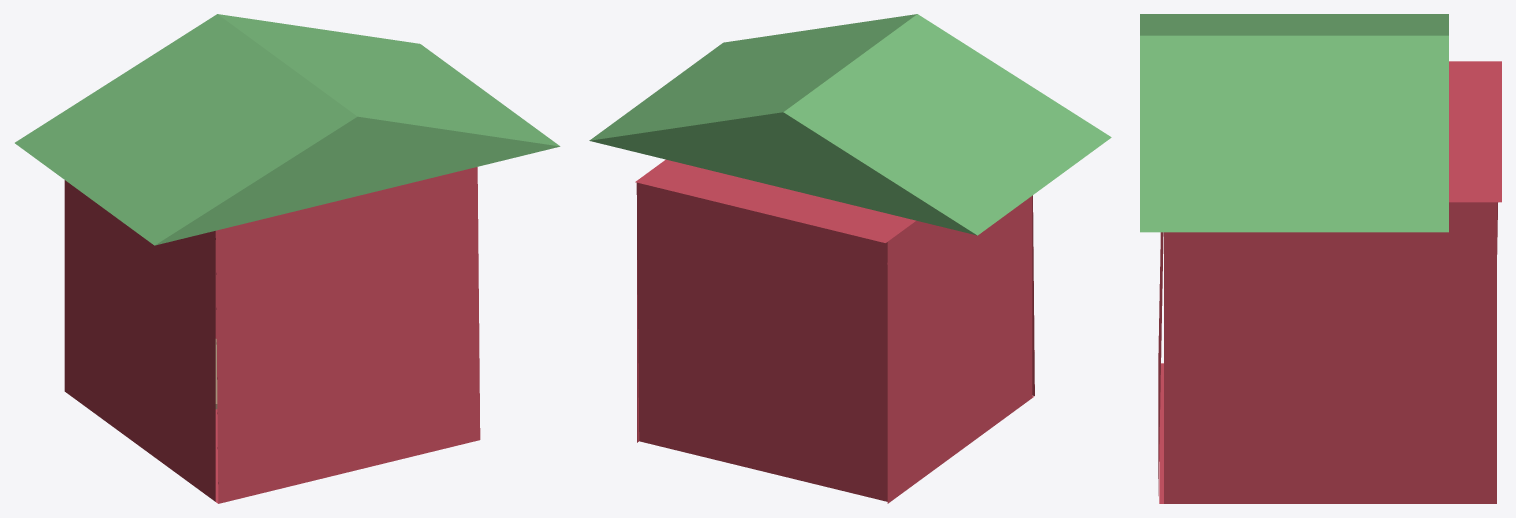
Rendered from Smashing Waasa-Densor.glb.
3 renders of one model, left to right at view 1: azimuth 30°, elevation 25°; view 2: azimuth 150°, elevation 25°; view 3: azimuth 270°, elevation 25°, orthographic. The views are drawn at different scales.
Parts seen in each view (by area): view 1: Mesh_Mesh_head_geo.001_lambert2SG.001; view 2: Mesh_Mesh_head_geo.001_lambert2SG.001; view 3: Mesh_Mesh_head_geo.001_lambert2SG.001.
Boxes of the visible parts, left/top/right/bottom form: Mesh_Mesh_head_geo.001_lambert2SG.001: left=15, top=14, right=560, bottom=503; Mesh_Mesh_head_geo.001_lambert2SG.001: left=589, top=14, right=1111, bottom=503; Mesh_Mesh_head_geo.001_lambert2SG.001: left=1140, top=14, right=1501, bottom=503.
Size of the model in its own units: 107 by 91 by 75.
